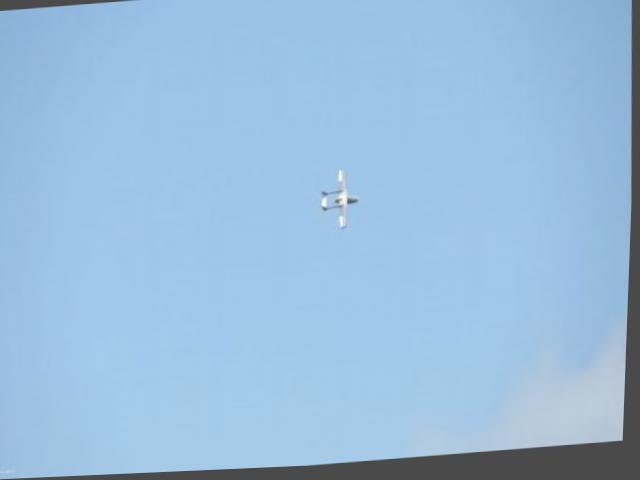uav: (316, 166, 369, 238)
